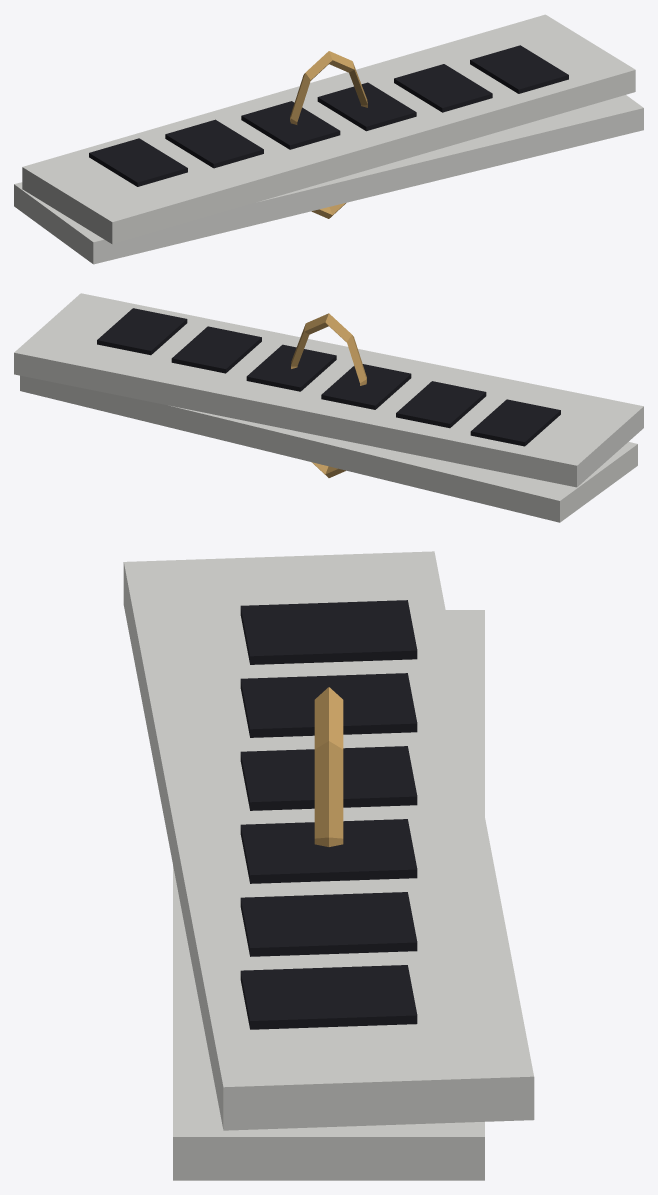
The model's file is carwash_plates.glb.
3 views of the same model, one above another, from view 1: azimuth 30°, elevation 25°; view 2: azimuth 150°, elevation 25°; view 3: azimuth 270°, elevation 25° (orthographic). The views are drawn at different scales.
Visible parts, largest first — view 1: plate_plate_white, letters_plate_ink, string_plate_string; view 2: plate_plate_white, letters_plate_ink, string_plate_string; view 3: plate_plate_white, letters_plate_ink, string_plate_string.
Boxes of the visible parts, box(x1,y1,x2,y2) form: plate_plate_white: box(14, 14, 643, 264); letters_plate_ink: box(89, 45, 568, 186); string_plate_string: box(290, 51, 367, 218); plate_plate_white: box(14, 293, 643, 522); letters_plate_ink: box(97, 308, 560, 446); string_plate_string: box(291, 313, 366, 477); plate_plate_white: box(123, 551, 534, 1180); letters_plate_ink: box(240, 600, 417, 1029); string_plate_string: box(314, 687, 343, 846).
Size of the model in its own units: 0.5287 by 0.152 by 0.1711.
